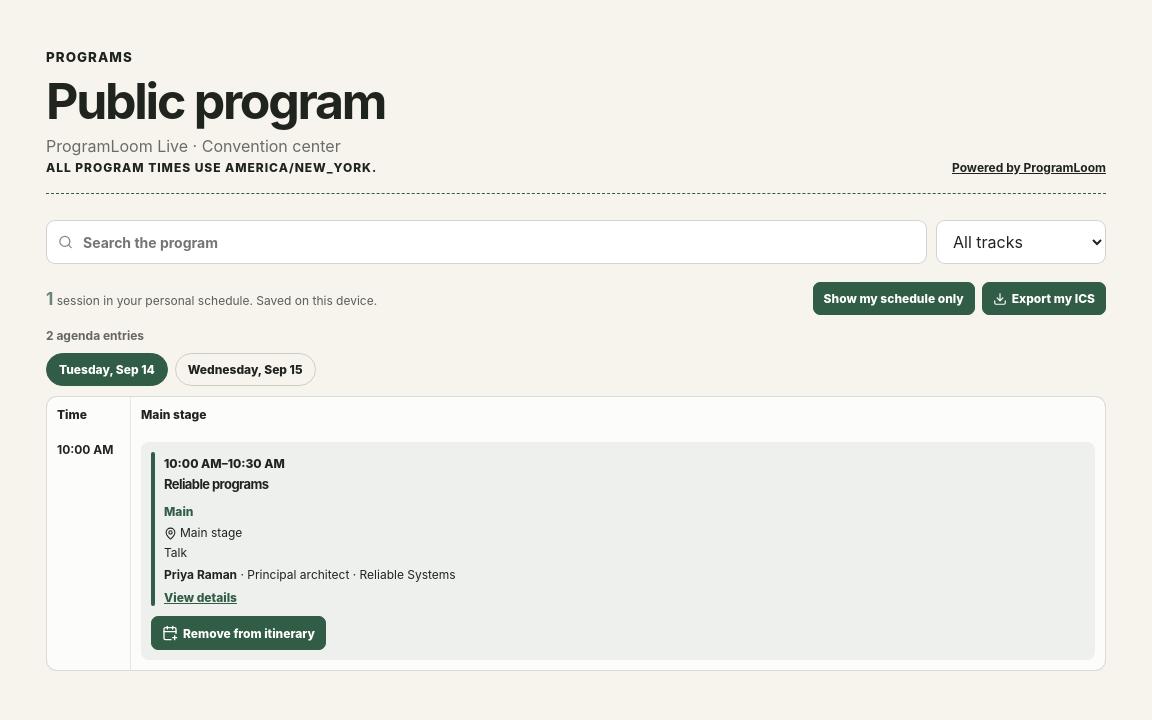
Test: public widgets › shows a saved itinerary even when earlier filters excluded it
Check: the heading "Reliable programs" is shown, box [164,476,268,492]
Type "does not match" into the field named "Search program" at coordinates (486, 242), box [46,220,927,264]
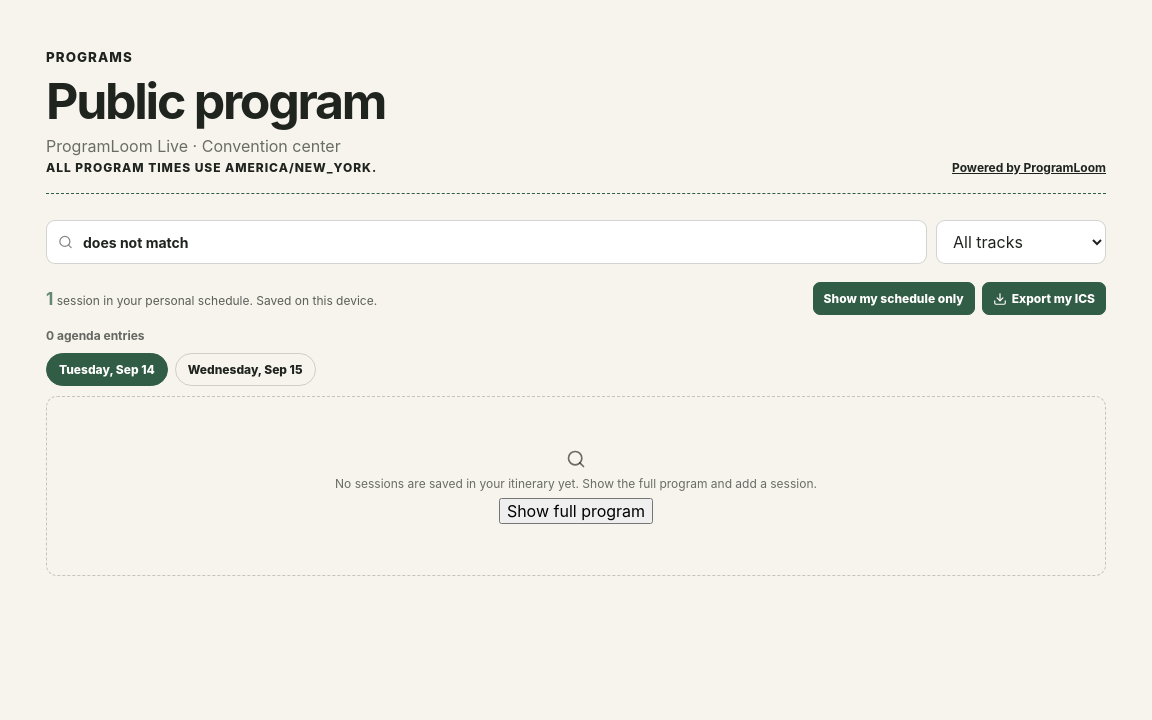
Check: the heading "Reliable programs" is gone
Click the button "Show my schedule only" at coordinates (894, 298), box [813,282,975,315]
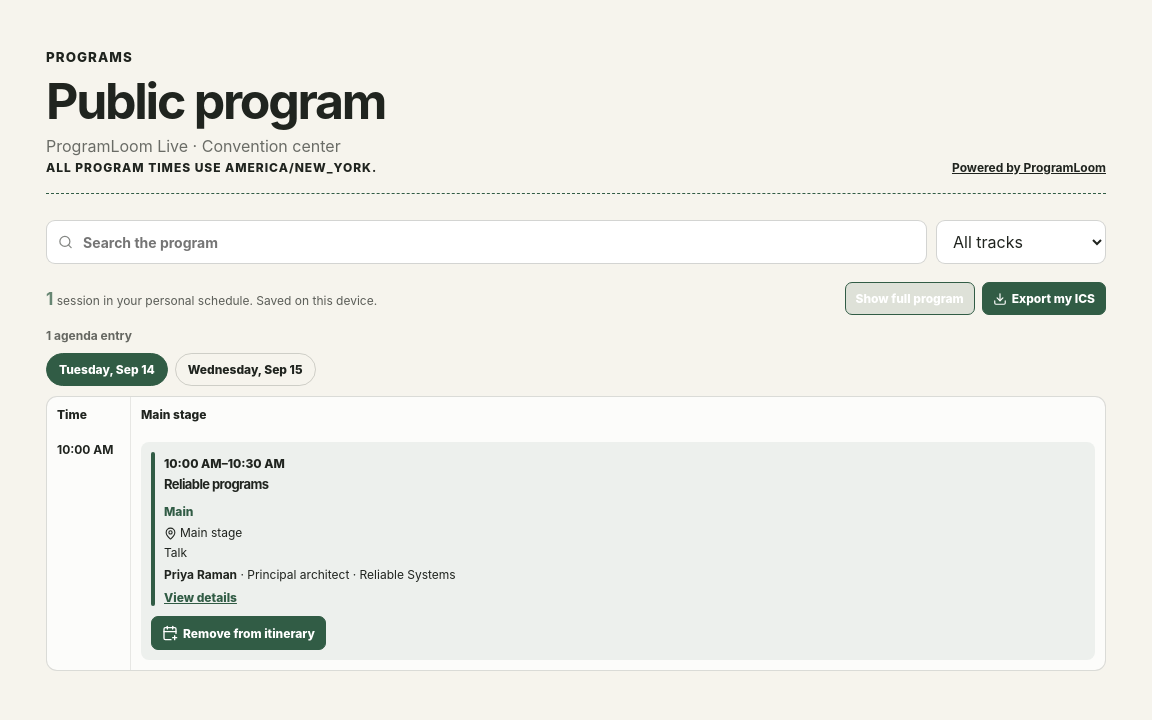
Check: the heading "Reliable programs" is shown, box [164,476,268,492]
Check: the field named "Search program" is empty, box [46,220,927,264]
